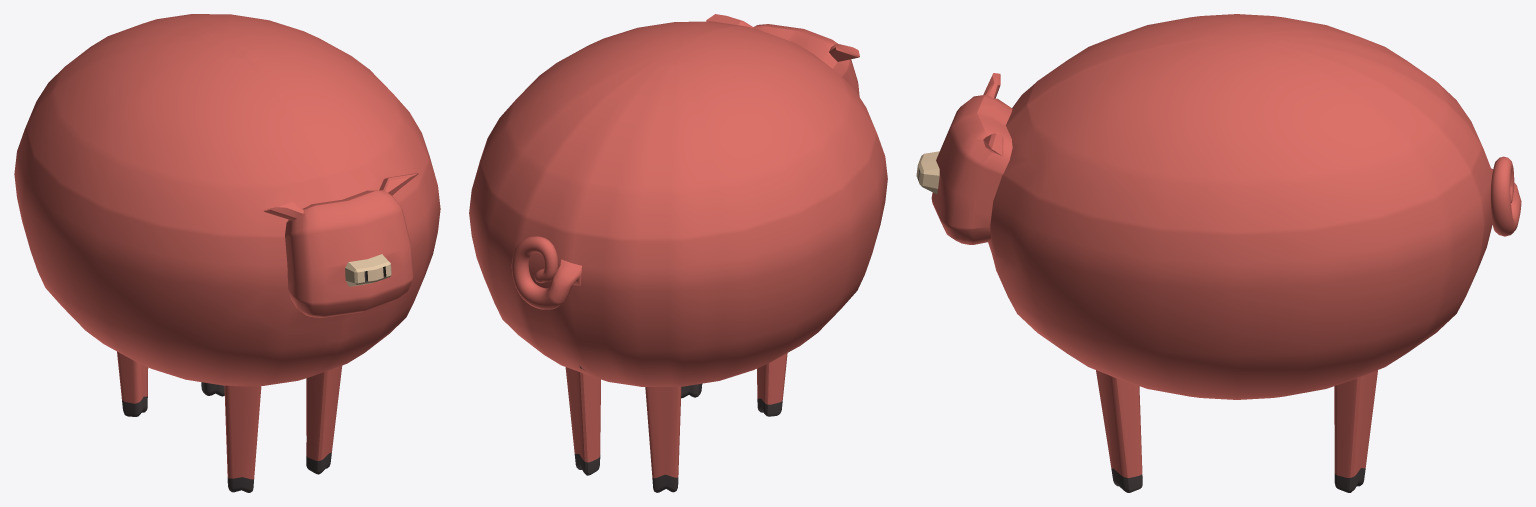
Rendered from SM_Pigg_Low.fbx.
The picture shows the model from 3 angles, left to right: view 1: azimuth 30°, elevation 25°; view 2: azimuth 150°, elevation 25°; view 3: azimuth 270°, elevation 25°; orthographic projection. The views are drawn at different scales.
Parts seen in each view (by area): view 1: SM_Pigg_Low; view 2: SM_Pigg_Low; view 3: SM_Pigg_Low.
Boxes of the visible parts, bbox=[...] form: SM_Pigg_Low: bbox=[14, 14, 440, 492]; SM_Pigg_Low: bbox=[469, 14, 887, 492]; SM_Pigg_Low: bbox=[916, 14, 1521, 492].
Bounding box in the file's own units: 2.24 × 2.44 × 3.11.
